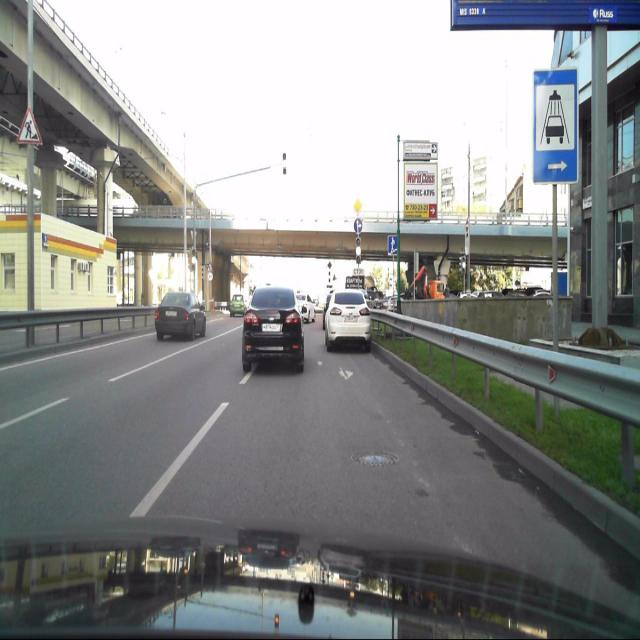road sign: (533, 67, 578, 184), (552, 184, 560, 354), (15, 107, 42, 143), (352, 197, 364, 216), (388, 236, 398, 257)
